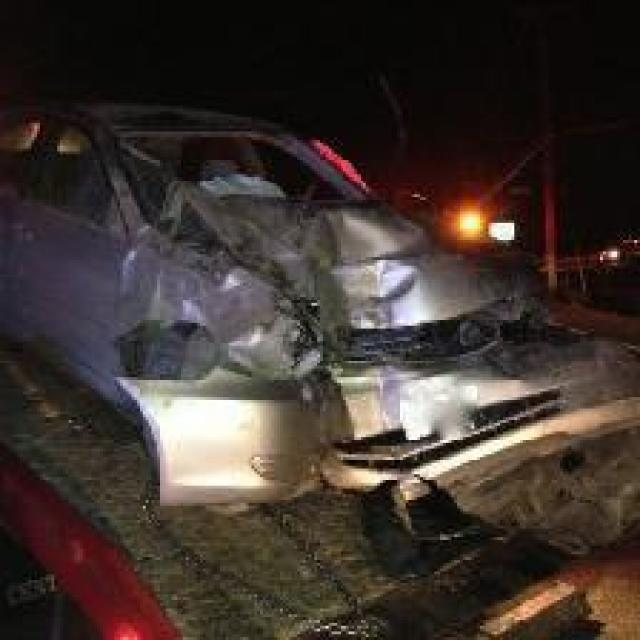damaged: (114, 177, 563, 514)
